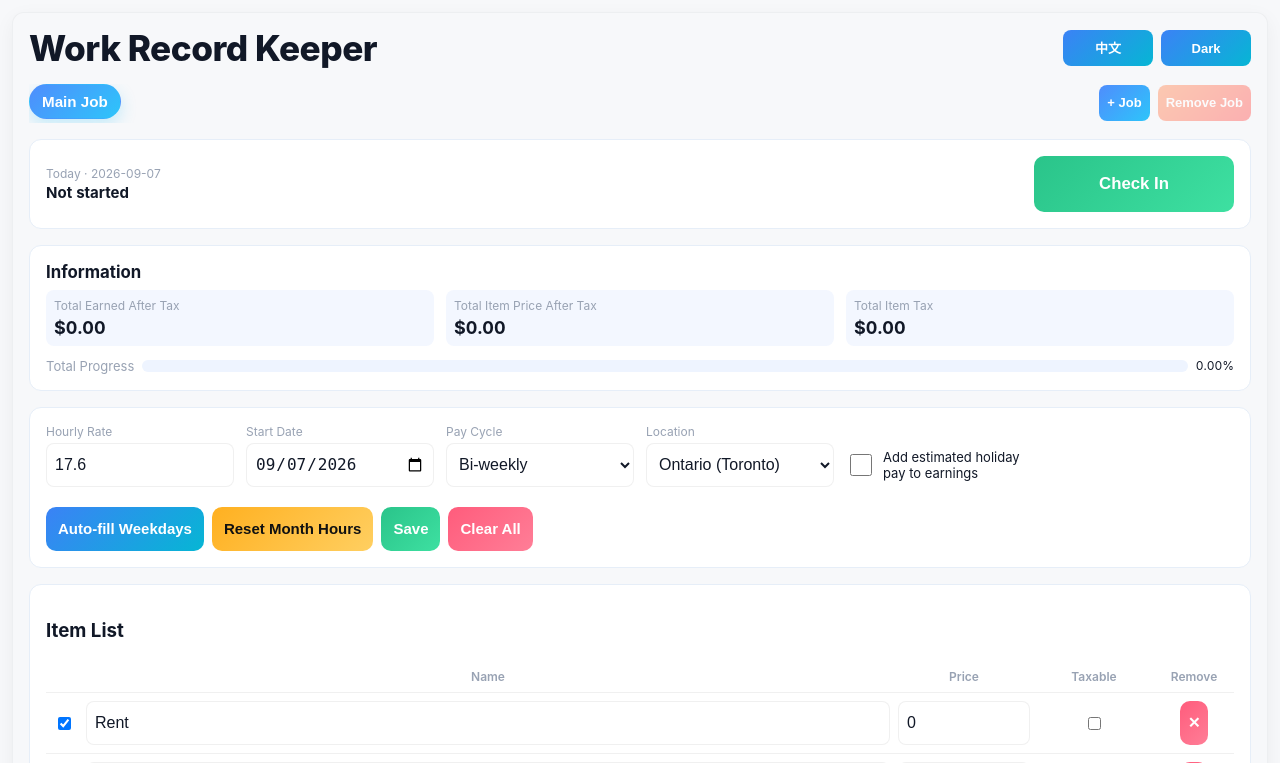
Test: language toggle switches to zh-tw
What coordinates should you click on to do the following:
click the button "中文"
I would click on:
 (1108, 48)
Its box is [1063,30,1153,66].
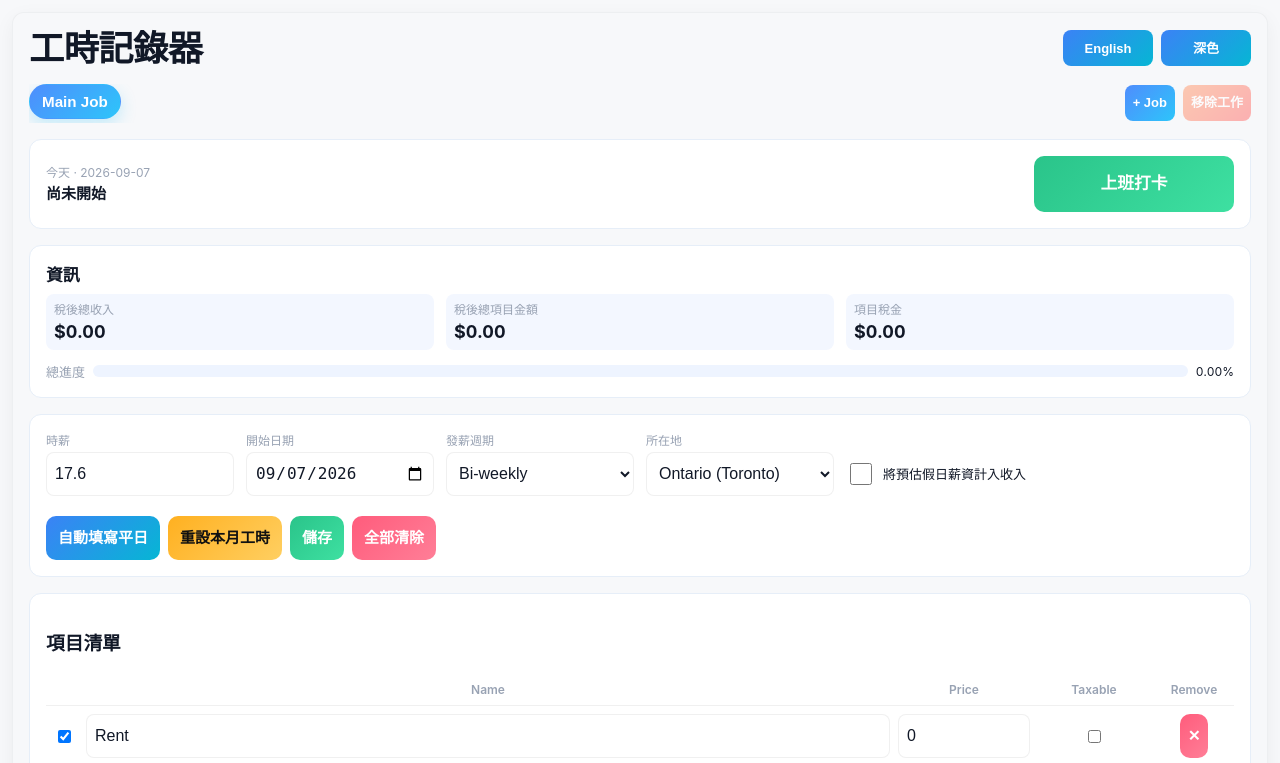
Expected: the heading "工時記錄器" is shown, [29,29,202,68]
